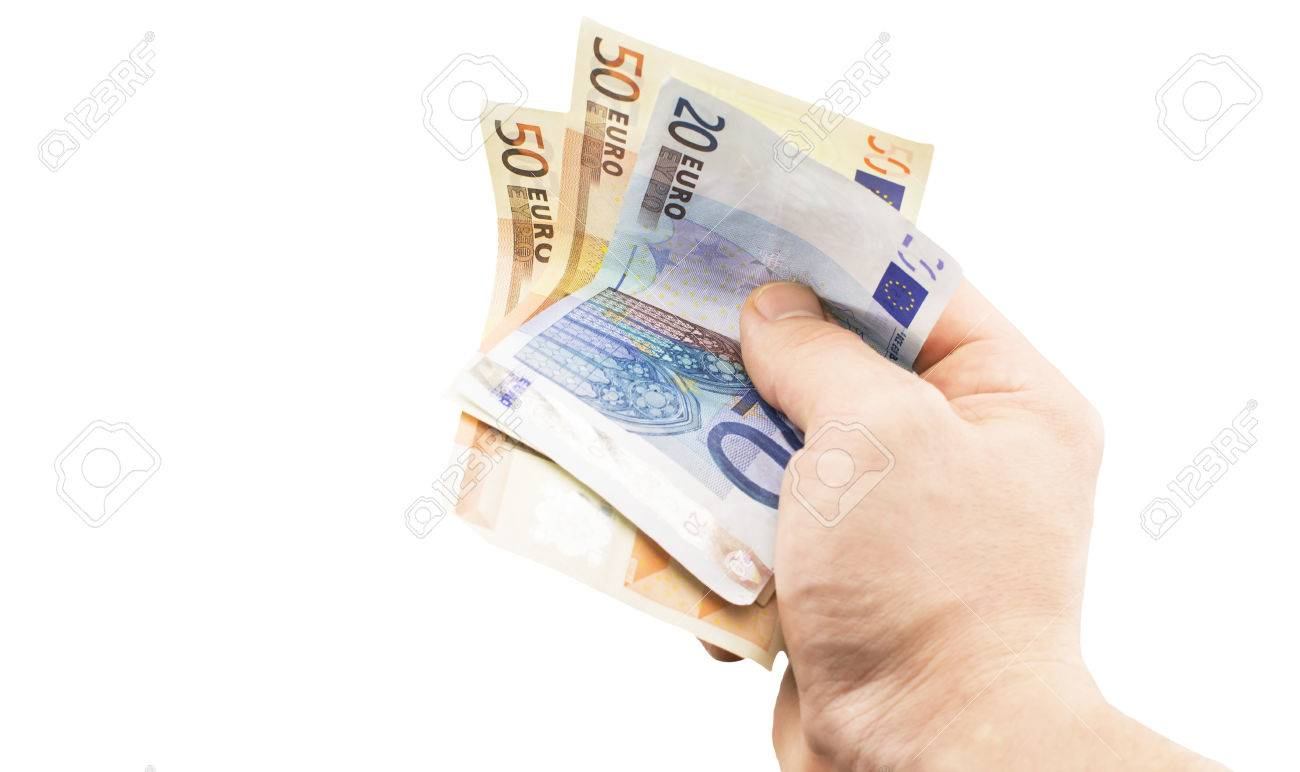billete: (446, 10, 968, 678)
